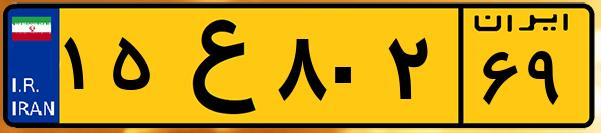0: (330, 28, 385, 110)
1: (57, 26, 110, 100)
2: (385, 28, 445, 110)
5: (110, 28, 158, 98)
6: (475, 38, 525, 113)
8: (270, 28, 330, 110)
9: (525, 38, 570, 115)
ع: (158, 12, 270, 120)
